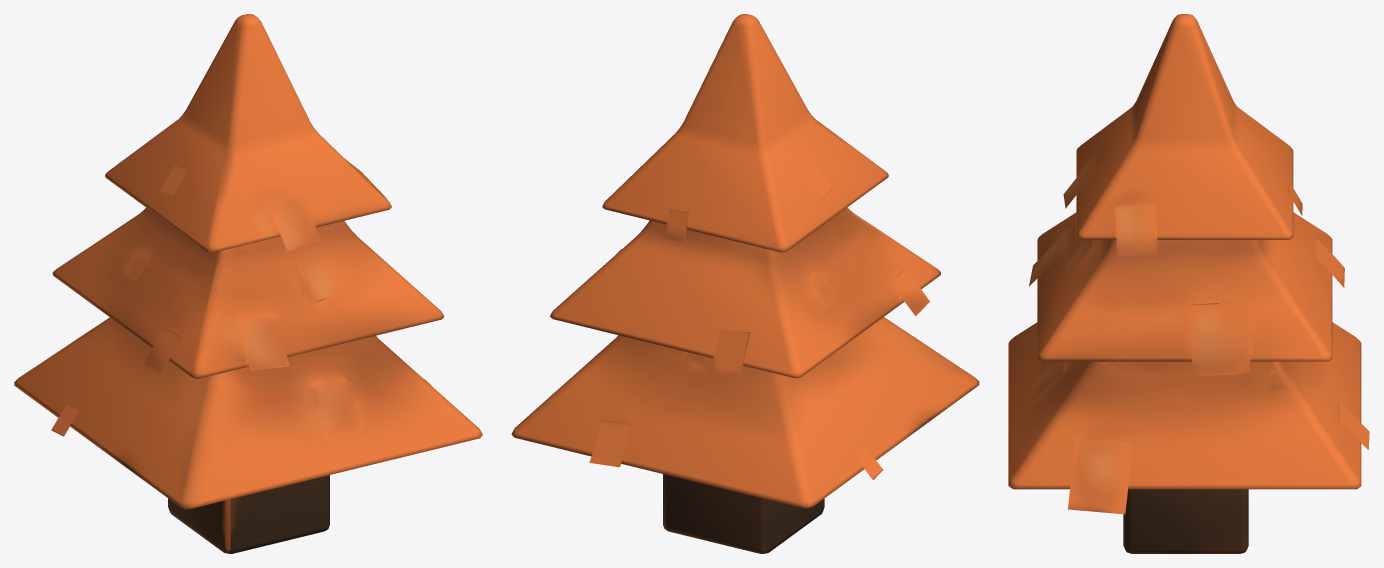
The model's file is tree 7.fbx.
3 views of the same model, side by side, from view 1: azimuth 30°, elevation 25°; view 2: azimuth 150°, elevation 25°; view 3: azimuth 270°, elevation 25° (orthographic).
Parts seen in each view (by area): view 1: Cube.004; view 2: Cube.004; view 3: Cube.004.
Boxes of the visible parts, x1,y1,x2,y2 form: Cube.004: [14, 14, 482, 553]; Cube.004: [511, 14, 979, 553]; Cube.004: [1008, 14, 1369, 553].
Bounding box in the file's own units: 214 × 314 × 200.
